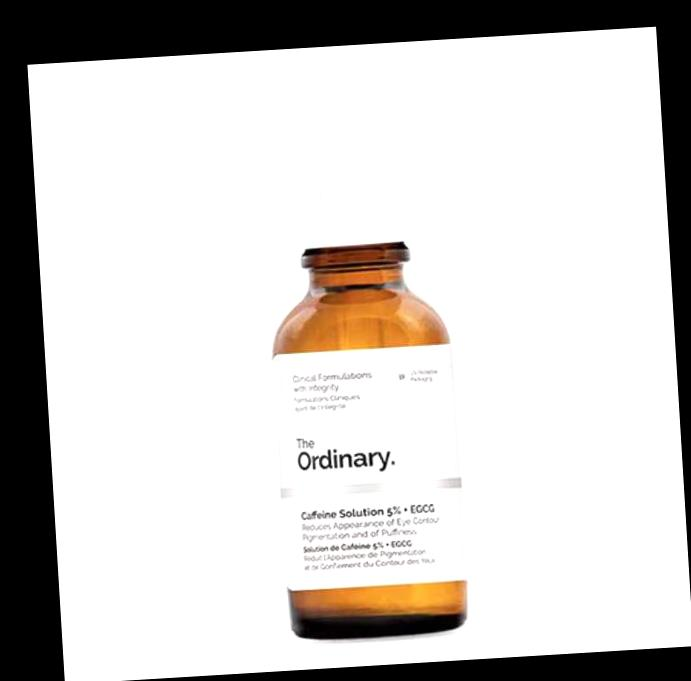cosmetic: (252, 67, 471, 638)
